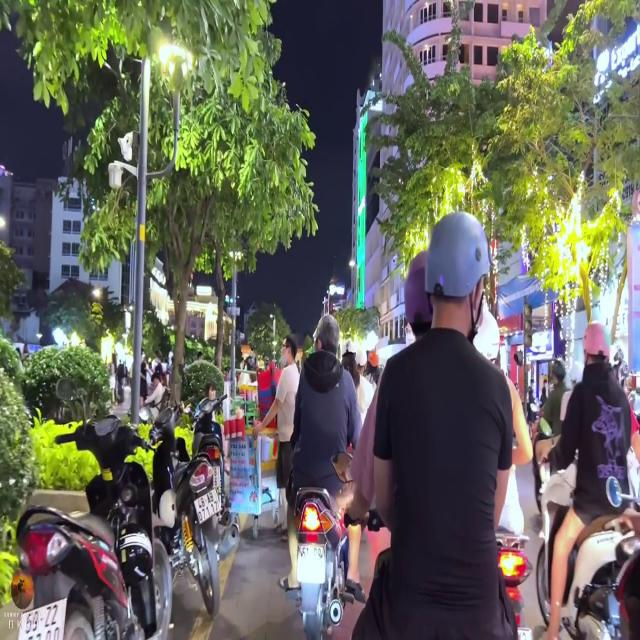bien_trang: (15, 594, 70, 640), (190, 494, 224, 520)
